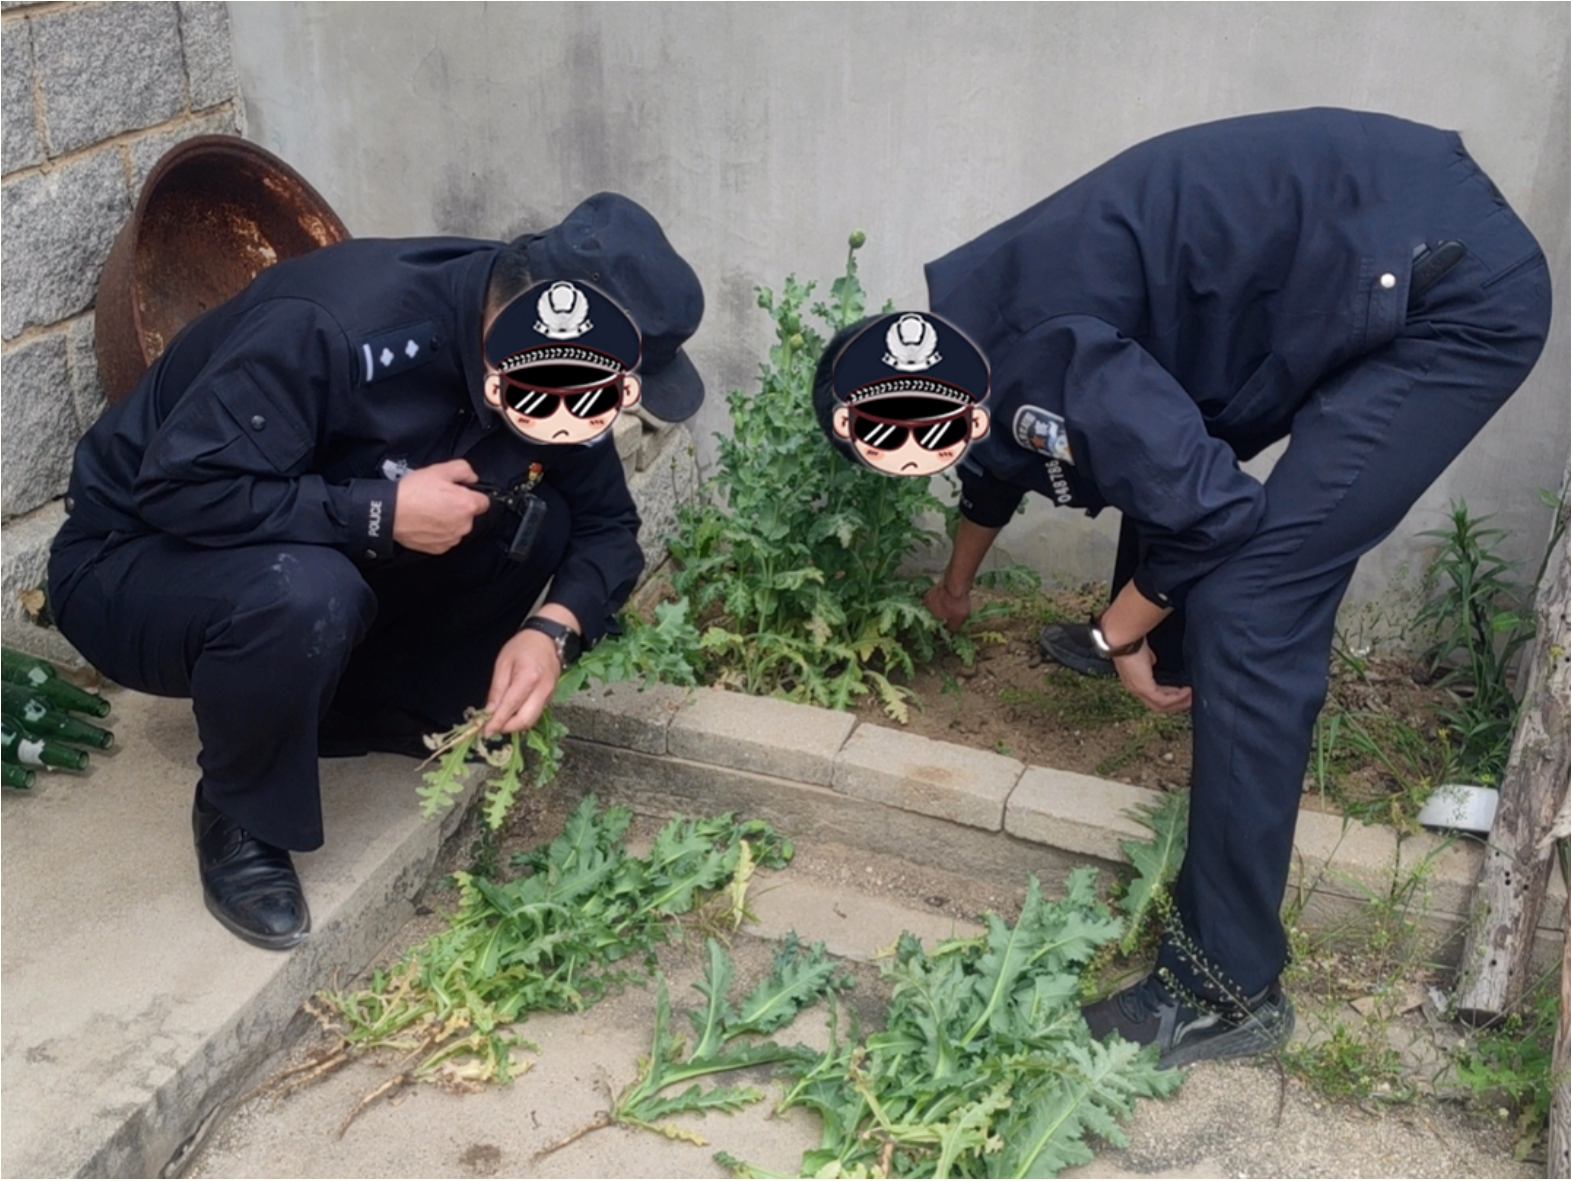Poppy: (637, 863, 1185, 1167), (275, 767, 775, 1085), (636, 239, 937, 700)
